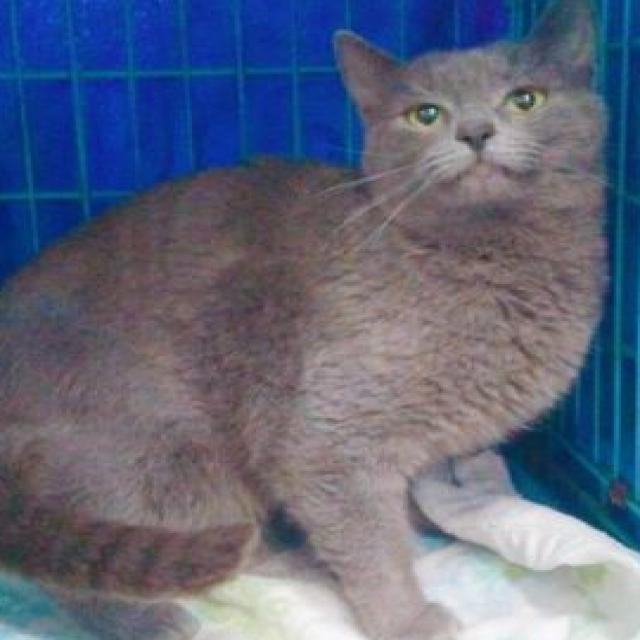Russian Blue: (0, 0, 619, 640)
